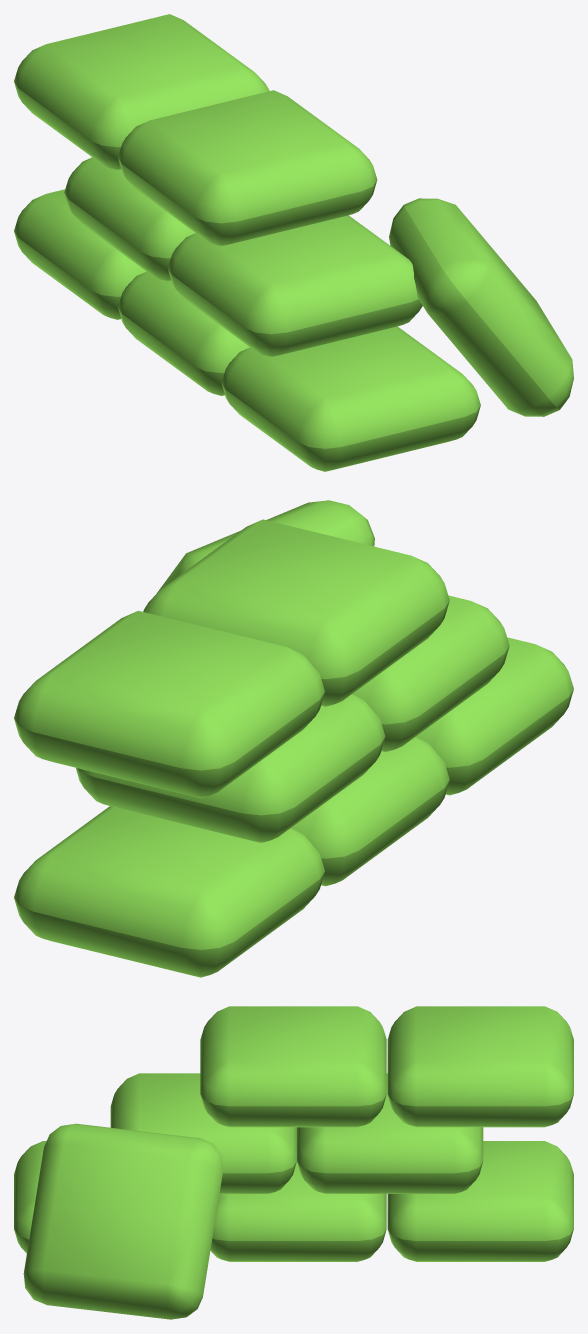
File: Gum Ruins.obj
3 views of the same model, one above another, from view 1: azimuth 30°, elevation 25°; view 2: azimuth 150°, elevation 25°; view 3: azimuth 270°, elevation 25° (orthographic). The views are drawn at different scales.
Parts seen in each view (by area): view 1: Gum_Ruins; view 2: Gum_Ruins; view 3: Gum_Ruins.
Boxes of the visible parts, left/top/right/bottom form: Gum_Ruins: left=14, top=14, right=573, bottom=471; Gum_Ruins: left=14, top=500, right=573, bottom=977; Gum_Ruins: left=14, top=1006, right=573, bottom=1319.
Bounding box in the file's own units: 14.85 × 10.23 × 25.81.
